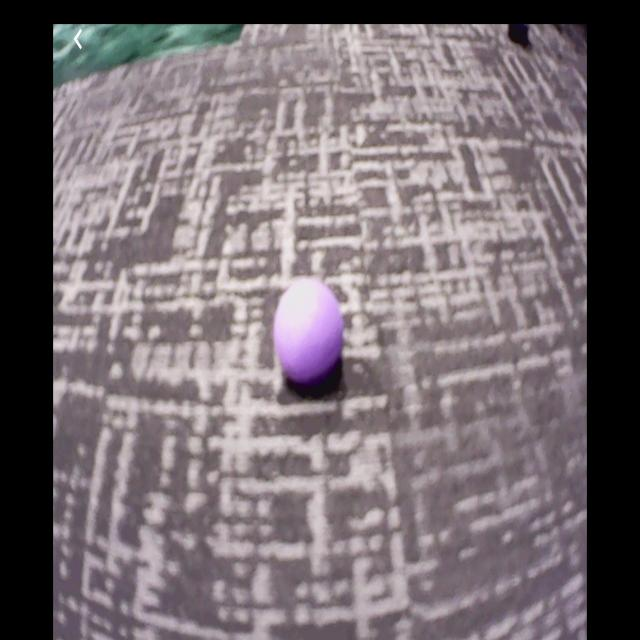ball: (276, 280, 344, 382)
